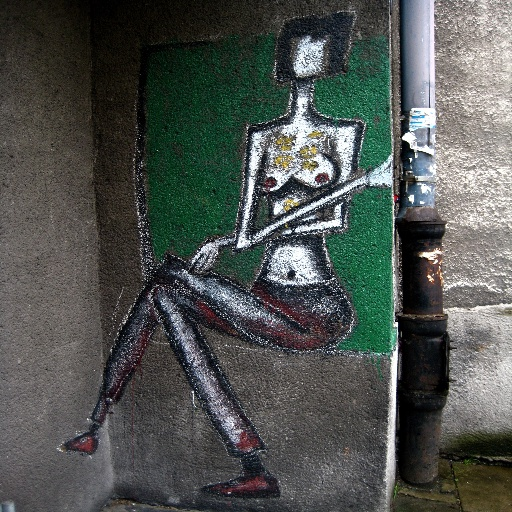hand: (364, 153, 394, 188), (188, 238, 219, 271)
